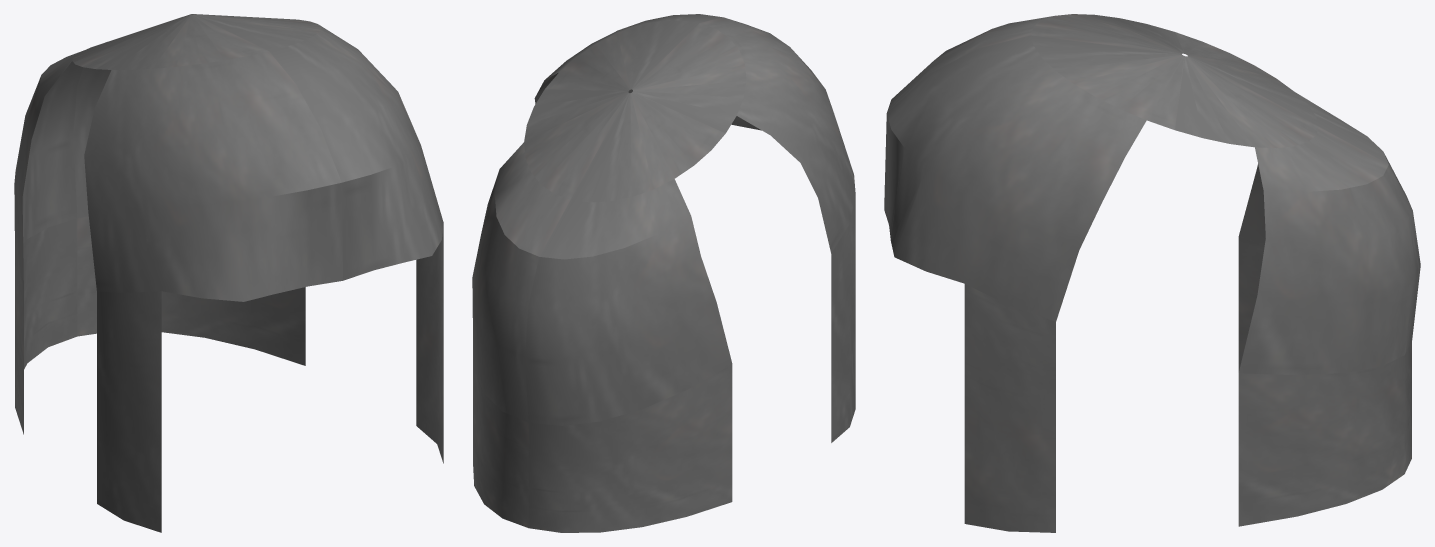
Rendered from hair_lib_04.dae.
3 views of the same model, side by side, from view 1: azimuth 30°, elevation 25°; view 2: azimuth 150°, elevation 25°; view 3: azimuth 270°, elevation 25° (orthographic). The views are drawn at different scales.
Parts seen in each view (by area): view 1: a-hair_lib_04; view 2: a-hair_lib_04; view 3: a-hair_lib_04.
Boxes of the visible parts, x1,y1,x2,y2 form: a-hair_lib_04: (14, 14, 443, 532); a-hair_lib_04: (472, 14, 855, 532); a-hair_lib_04: (884, 14, 1420, 532).
Size of the model in its own units: 0.4549 by 0.666 by 0.5792.
